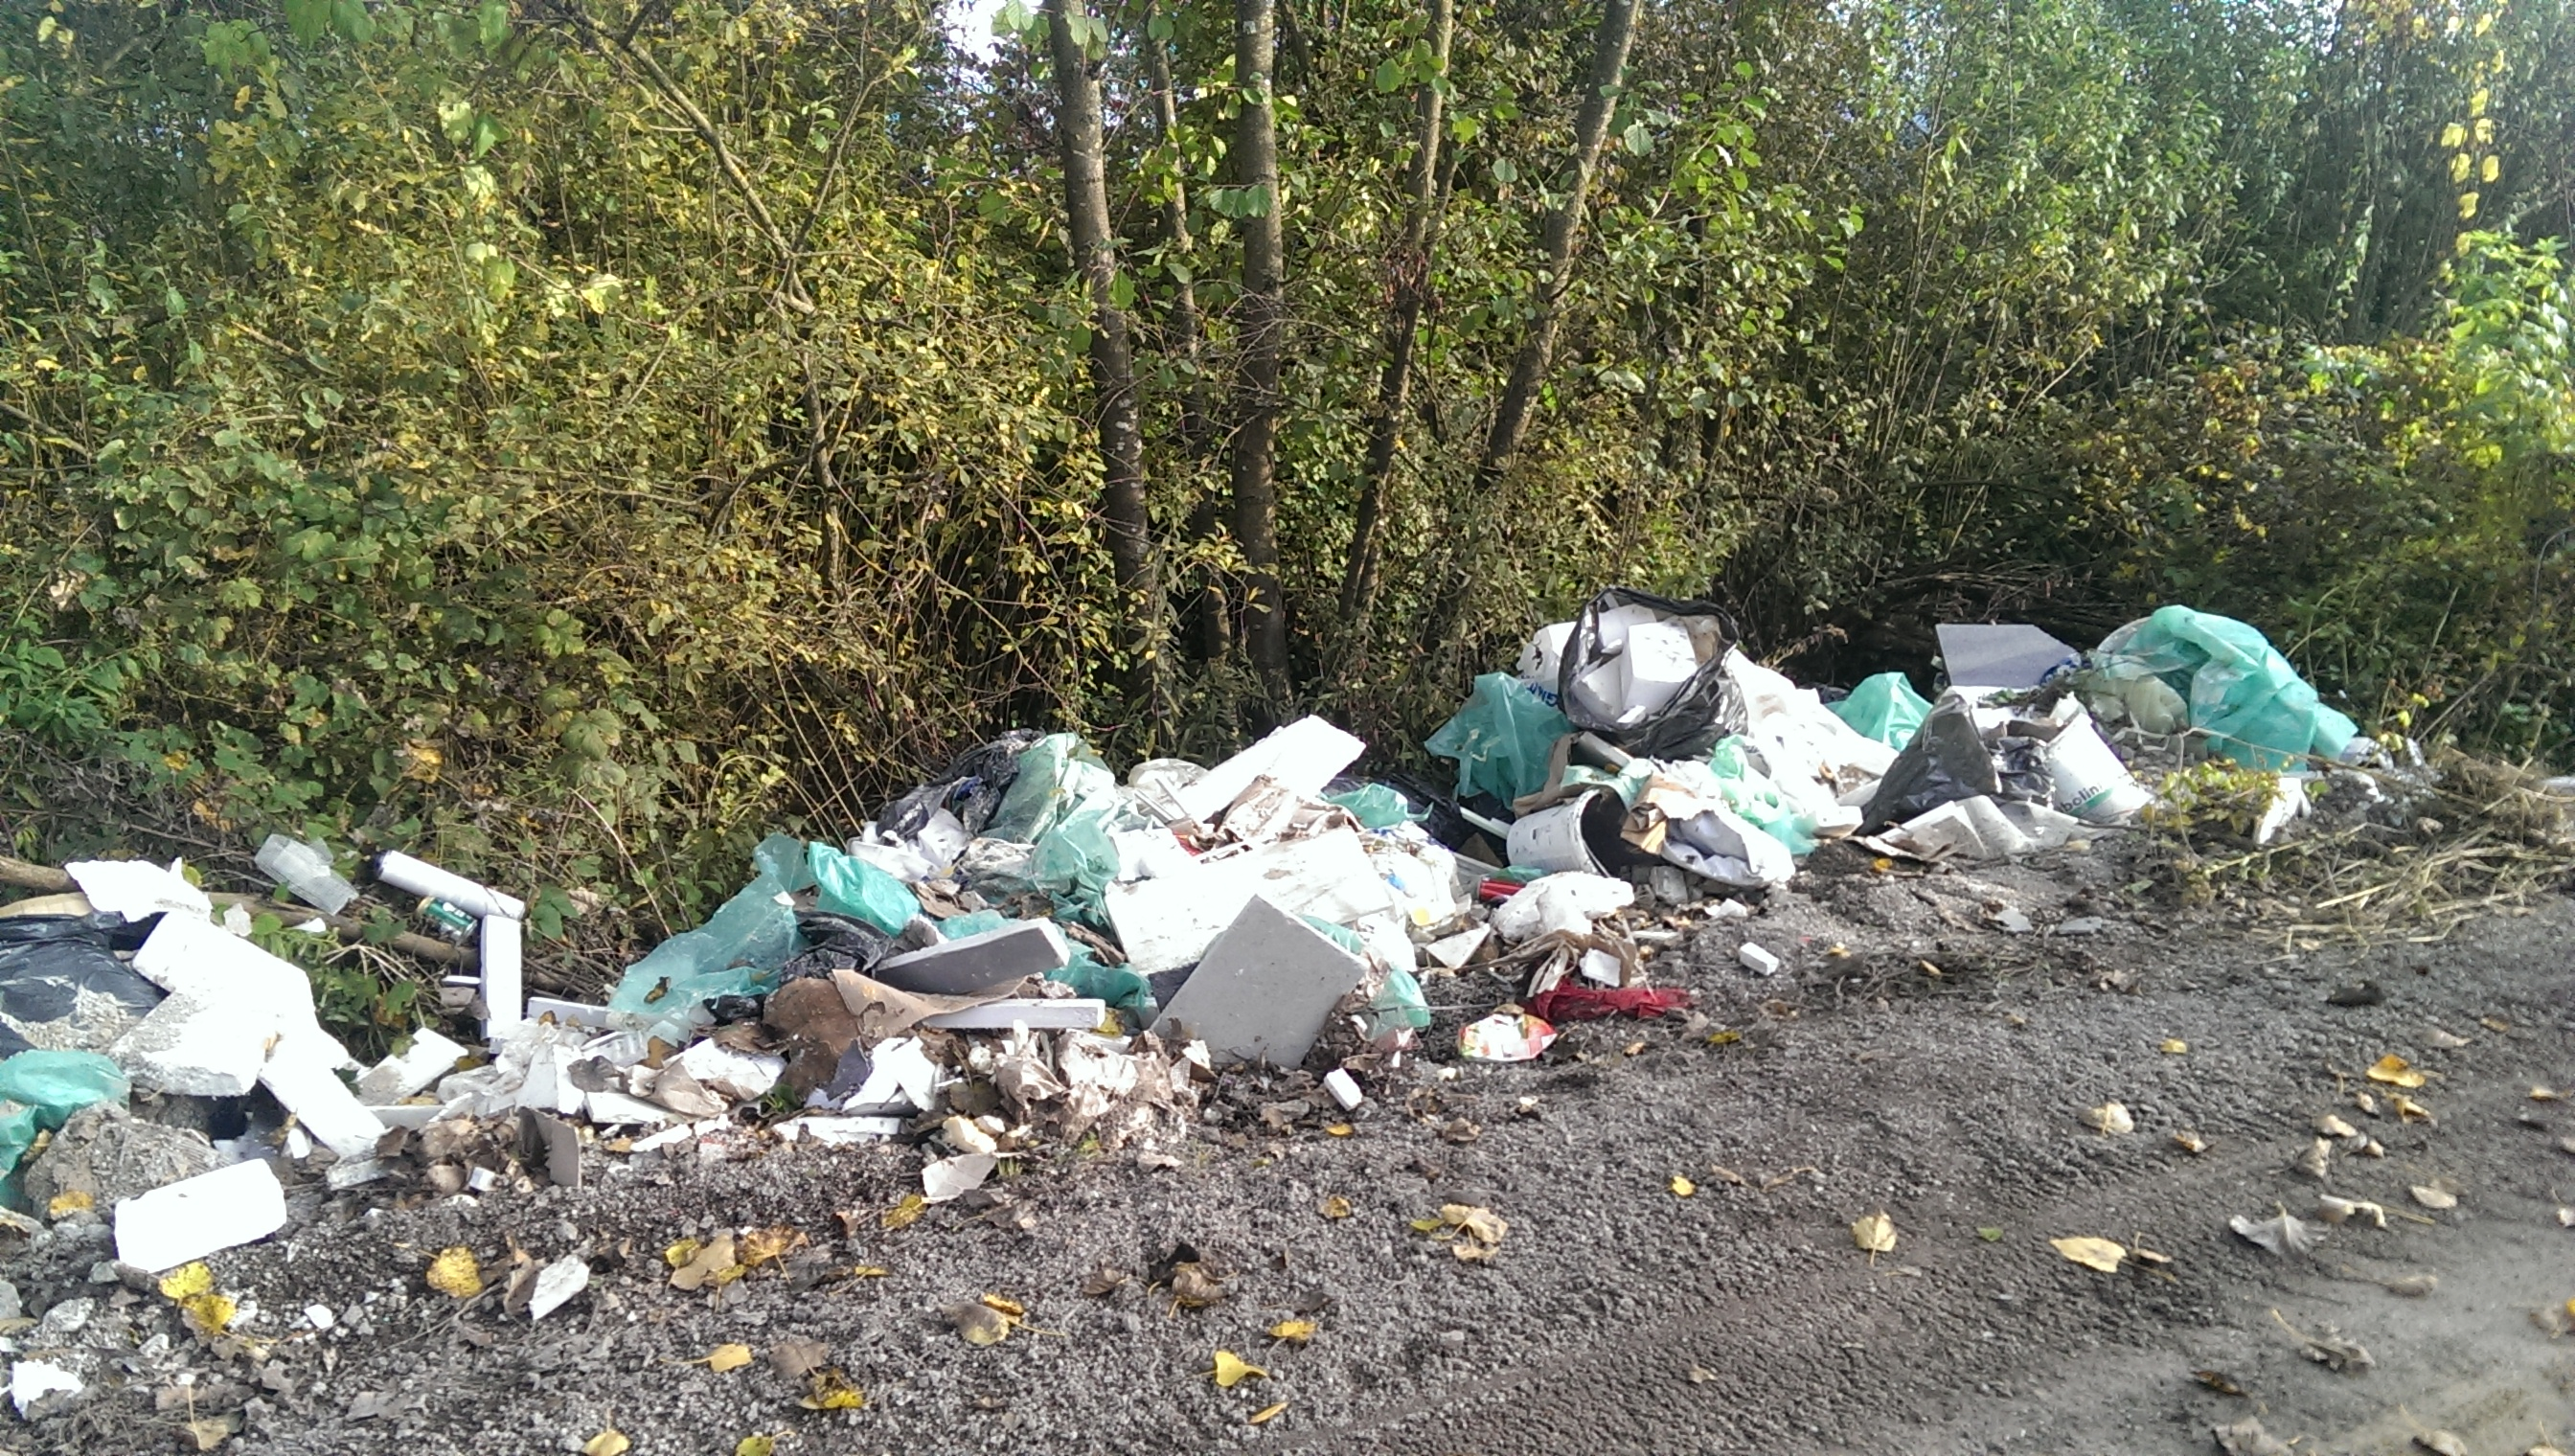trash: (4, 584, 2467, 1391)
